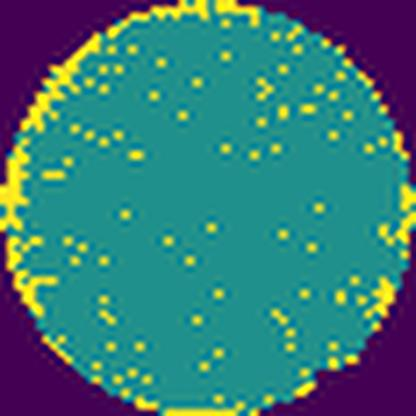Edge-Loc: (0, 0, 273, 320)
